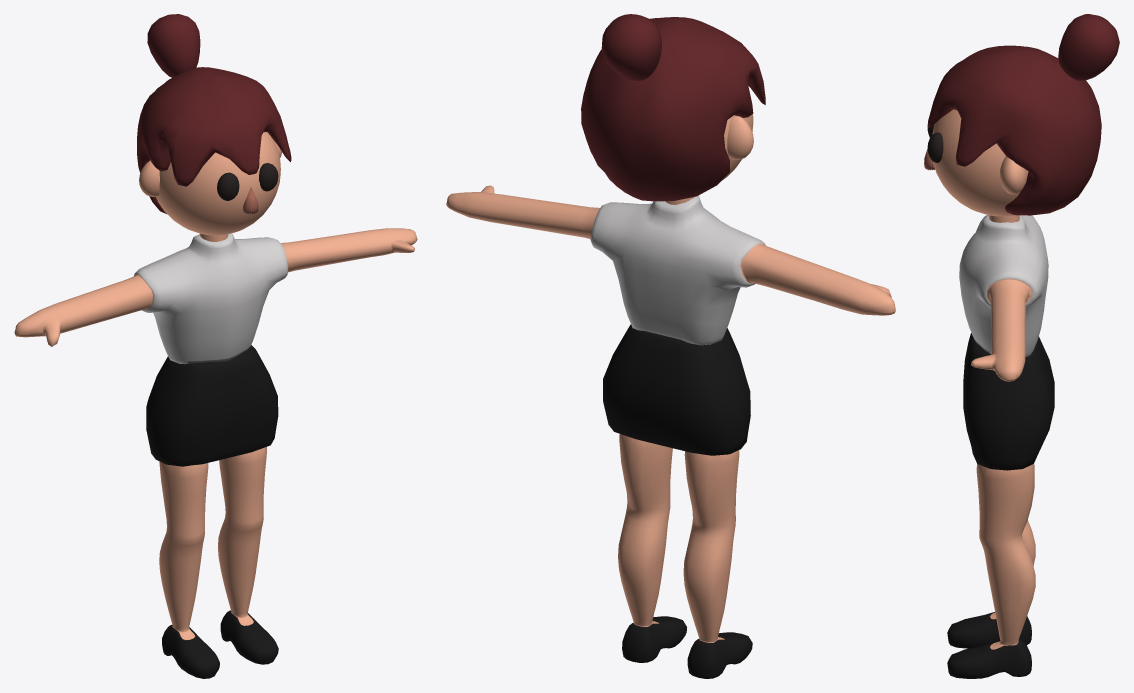
File: maid npc.obj
The picture shows the model from 3 angles, left to right: view 1: azimuth 30°, elevation 25°; view 2: azimuth 150°, elevation 25°; view 3: azimuth 270°, elevation 25°; orthographic projection. The views are drawn at different scales.
Parts seen in each view (by area): view 1: maid pCube10, maid_pSphere12, pCube8 maid, maid pSphere16; view 2: maid pCube10, maid_pSphere12, pCube8 maid; view 3: maid_pSphere12, maid pCube10, pCube8 maid, maid pSphere16.
Boxes of the visible parts, <box> form: maid pCube10: <box>146,345,278,678</box>; maid_pSphere12: <box>137,14,291,235</box>; pCube8 maid: <box>14,228,417,364</box>; maid pSphere16: <box>217,163,278,200</box>; maid pCube10: <box>603,324,752,678</box>; maid_pSphere12: <box>581,14,765,201</box>; pCube8 maid: <box>446,185,895,345</box>; maid_pSphere12: <box>924,14,1119,216</box>; maid pCube10: <box>947,333,1054,678</box>; pCube8 maid: <box>959,215,1048,381</box>; maid pSphere16: <box>927,124,943,162</box>.
Size of the model in its own units: 25.38 by 36.6 by 10.12.
